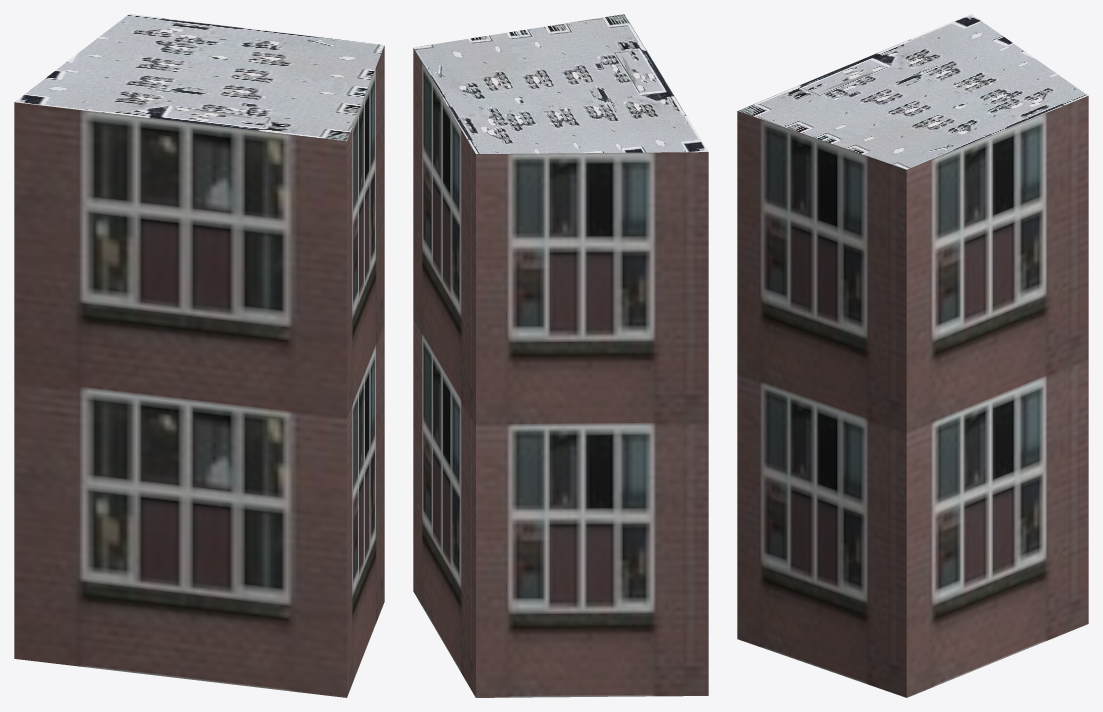
Rendered from ResTex__4185.fbx.
3 renders of one model, left to right at view 1: azimuth 30°, elevation 25°; view 2: azimuth 150°, elevation 25°; view 3: azimuth 270°, elevation 25°, orthographic. The views are drawn at different scales.
Parts seen in each view (by area): view 1: CityEngineMaterial_12_m, CityEngineMaterial_2_m; view 2: CityEngineMaterial_12_m, CityEngineMaterial_2_m; view 3: CityEngineMaterial_12_m, CityEngineMaterial_2_m.
Boxes of the visible parts, bbox=[...] form: CityEngineMaterial_12_m: bbox=[14, 46, 384, 697]; CityEngineMaterial_2_m: bbox=[14, 14, 384, 141]; CityEngineMaterial_12_m: bbox=[413, 48, 708, 697]; CityEngineMaterial_2_m: bbox=[413, 14, 708, 153]; CityEngineMaterial_12_m: bbox=[737, 96, 1088, 697]; CityEngineMaterial_2_m: bbox=[738, 14, 1088, 169].
Size of the model in its own units: 3.79 by 6 by 3.61.
Materials: 2 (2 with a texture image).
